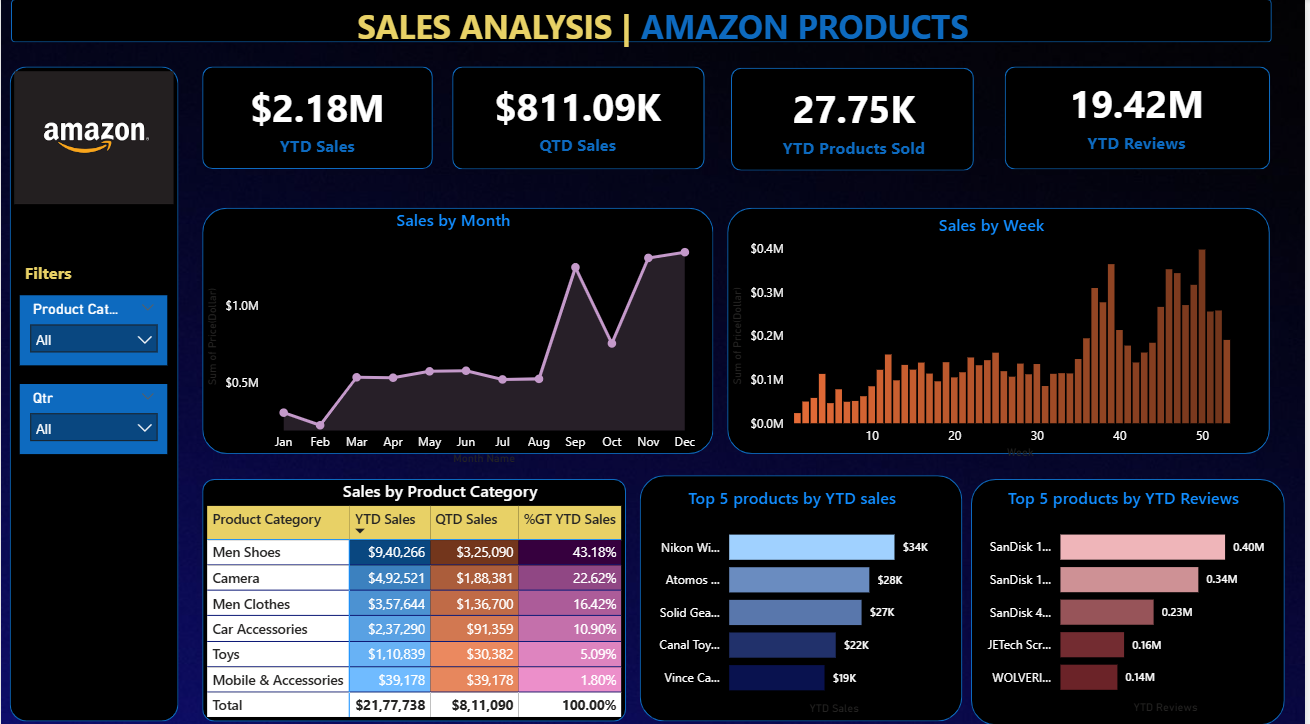

The dashboard page shown, as its layout file describes it:
{"tool":"powerbi","page":{"name":"Page 1","canvas":[1280,720],"ordinal":0},"visuals":[{"type":"shape","box":[9.7,0,1237.5,42.8],"z":0},{"type":"shape","box":[8.3,66.2,165.6,642.9],"z":1000},{"type":"textbox","box":[345.3,0,618.6,54.7],"z":2000},{"type":"shape","box":[197.3,66.2,226.3,100.7],"z":3000},{"type":"shape","box":[443,66.3,247.7,101.2],"z":4000},{"type":"shape","box":[716.3,67.4,238.4,101.2],"z":5000},{"type":"shape","box":[984.9,66.3,260.5,101.2],"z":6000},{"type":"card","fields":{"Values":["Amazon_Data.YTD Sales"]},"box":[197.3,70.4,226.3,93.8],"z":7000},{"type":"card","fields":{"Values":["Amazon_Data.QTD Sales"]},"box":[449.1,68.7,234.4,94.5],"z":8000},{"type":"card","fields":{"Values":["Amazon_Data.YTD Products Sold"]},"box":[720.2,71.2,234.4,94.5],"z":9000},{"type":"card","fields":{"Values":["Amazon_Data.YTD Reviews"]},"box":[997.6,66.3,234.4,94.5],"z":10000},{"type":"shape","box":[197.5,204.9,501.8,241.7],"z":11000},{"type":"areaChart","title":"Sales by Month","fields":{"Category":["Date Table.Month Name"],"Y":["Sum(Amazon_Data.Price(Dollar))"]},"box":[197.5,204.9,493.3,257.7],"z":12000},{"type":"shape","box":[712.9,204.9,532.5,241.7],"z":13000},{"type":"columnChart","title":"Sales by Week","fields":{"Category":["Date Table.Week"],"Y":["Sum(Amazon_Data.Price(Dollar))"]},"box":[712.9,209.8,519,246.6],"z":14000},{"type":"shape","box":[197.5,471.2,416,238],"z":15000},{"type":"pivotTable","title":"Sales by Product Category","fields":{"Rows":["Amazon_Data.Product Category"],"Values":["Amazon_Data.YTD Sales","Amazon_Data.QTD Sales","Divide(Amazon_Data.YTD Sales, ScopedEval(Amazon_Data.YTD Sales, []))"]},"box":[197.5,471.2,467.5,249.1],"z":16000},{"type":"shape","box":[627,467.5,316.6,241.7],"z":17000},{"type":"shape","box":[952.2,471.2,308,241.7],"z":18000},{"type":"clusteredBarChart","title":"Top 5 products by YTD sales","fields":{"Category":["Amazon_Data.Product Description"],"Y":["Amazon_Data.YTD Sales"]},"box":[627,478.2,299.1,228.8],"z":19000},{"type":"clusteredBarChart","title":"Top 5 products by YTD Reviews","fields":{"Category":["Amazon_Data.Product Description"],"Y":["Amazon_Data.YTD Reviews"]},"box":[952.2,478.5,299.4,228.2],"z":20000},{"type":"slicer","fields":{"Values":["Amazon_Data.Product Category"]},"box":[17.9,291.1,144.9,69],"z":21000},{"type":"slicer","fields":{"Values":["Date Table.Qtr"]},"box":[17.9,378,144.9,69],"z":22000},{"type":"image","box":[8.3,42.8,165.6,186.2],"z":23000},{"type":"textbox","box":[17.9,252.5,144.9,38.6],"z":23001}]}

Visuals, with their boxes in screenshot pixels (x1, y1, x2, y2), scaled from the page's 1280x720 canvas onto the 1310x724 screenshot:
shape: 10:0:1276:43
shape: 8:67:178:713
textbox: 353:0:986:55
shape: 202:67:434:168
shape: 453:67:707:168
shape: 733:68:977:170
shape: 1008:67:1275:168
card - Amazon_Data.YTD Sales: 202:71:434:165
card - Amazon_Data.QTD Sales: 460:69:700:164
card - Amazon_Data.YTD Products Sold: 737:72:977:167
card - Amazon_Data.YTD Reviews: 1021:67:1261:162
shape: 202:206:716:449
"Sales by Month" areaChart: 202:206:707:465
shape: 730:206:1275:449
"Sales by Week" columnChart: 730:211:1261:459
shape: 202:474:628:713
"Sales by Product Category" pivotTable: 202:474:681:723
shape: 642:470:966:713
shape: 975:474:1290:717
"Top 5 products by YTD sales" clusteredBarChart: 642:481:948:711
"Top 5 products by YTD Reviews" clusteredBarChart: 975:481:1281:711
slicer - Amazon_Data.Product Category: 18:293:167:362
slicer - Date Table.Qtr: 18:380:167:449
image: 8:43:178:230
textbox: 18:254:167:293
